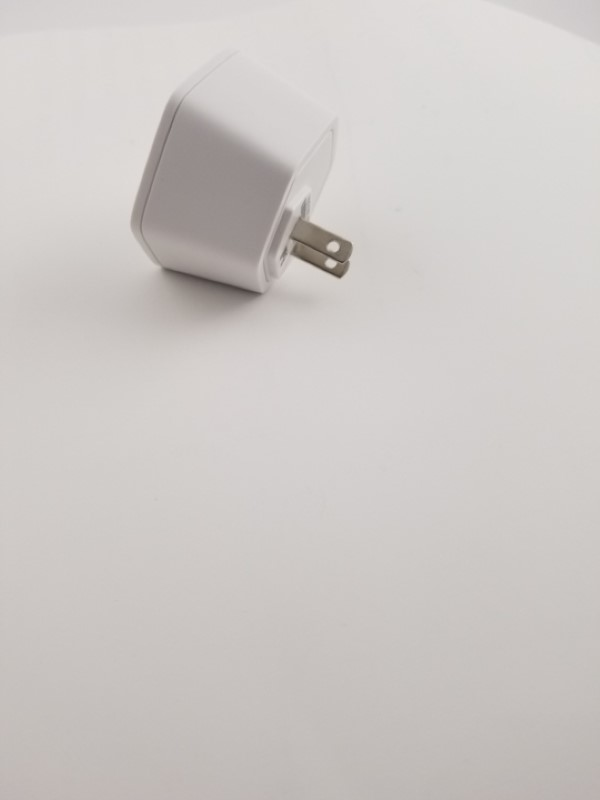pod: (125, 40, 359, 310)
